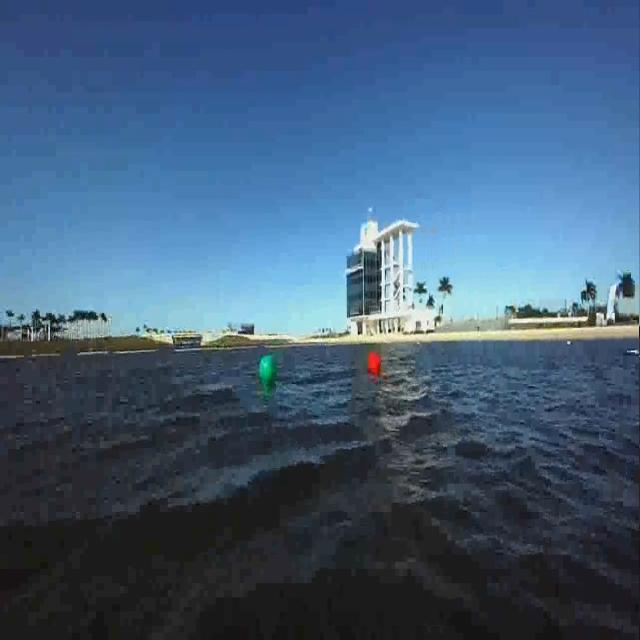green-buoy: (261, 354, 278, 383)
red-buoy: (367, 352, 379, 371)
